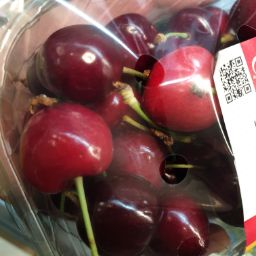Cherry: (11, 96, 177, 208), (30, 5, 153, 121), (74, 188, 220, 256), (138, 37, 227, 136), (175, 2, 256, 61)
